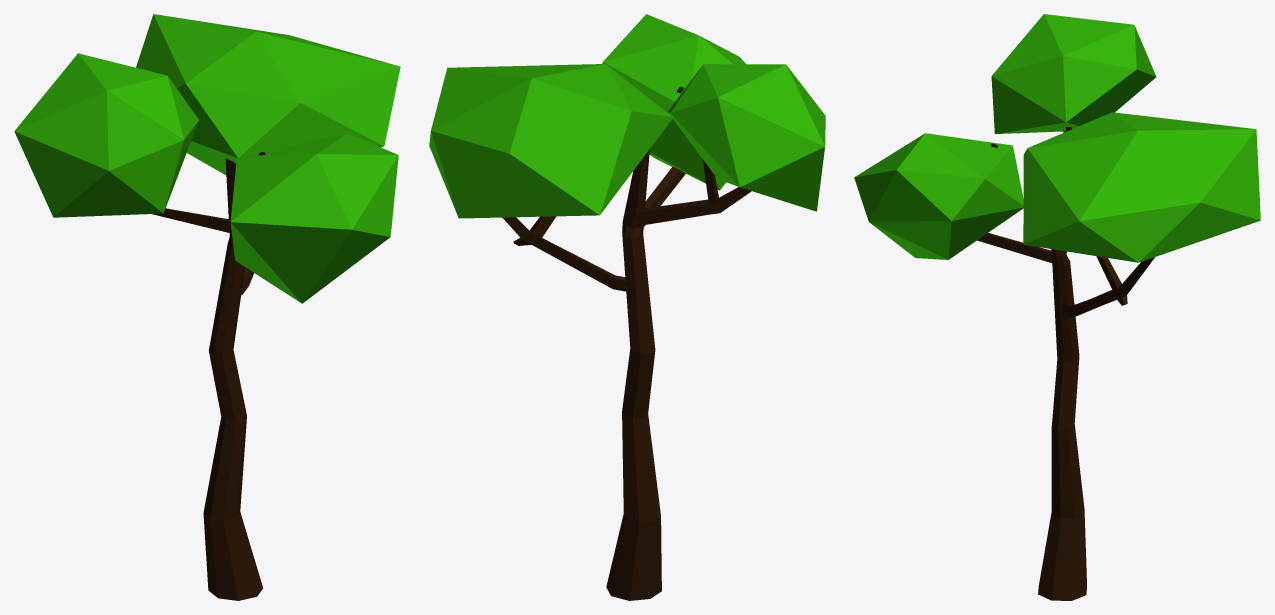
The model's file is Drzewo V.FBX.
The picture shows the model from 3 angles, left to right: view 1: azimuth 30°, elevation 25°; view 2: azimuth 150°, elevation 25°; view 3: azimuth 270°, elevation 25°; orthographic projection. The views are drawn at different scales.
Visible parts, largest first — view 1: Cylinder.012, Object001; view 2: Cylinder.012, Object001; view 3: Cylinder.012, Object001.
Part boxes in pixels (x1,y1,x2,y2): Cylinder.012: (14, 14, 400, 303); Object001: (152, 152, 265, 600); Cylinder.012: (429, 14, 825, 218); Object001: (502, 86, 751, 600); Cylinder.012: (854, 14, 1260, 262); Object001: (977, 127, 1154, 600).
Size of the model in its own units: 35.01 by 47.78 by 34.38.
